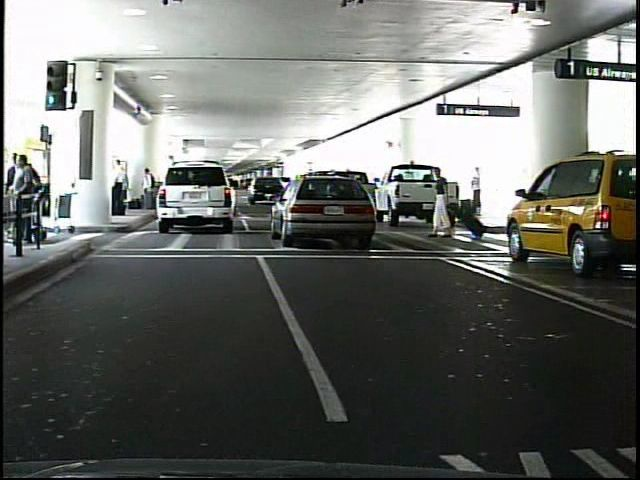person: (432, 165, 455, 241), (114, 157, 130, 218), (146, 166, 160, 214), (477, 164, 490, 206)
